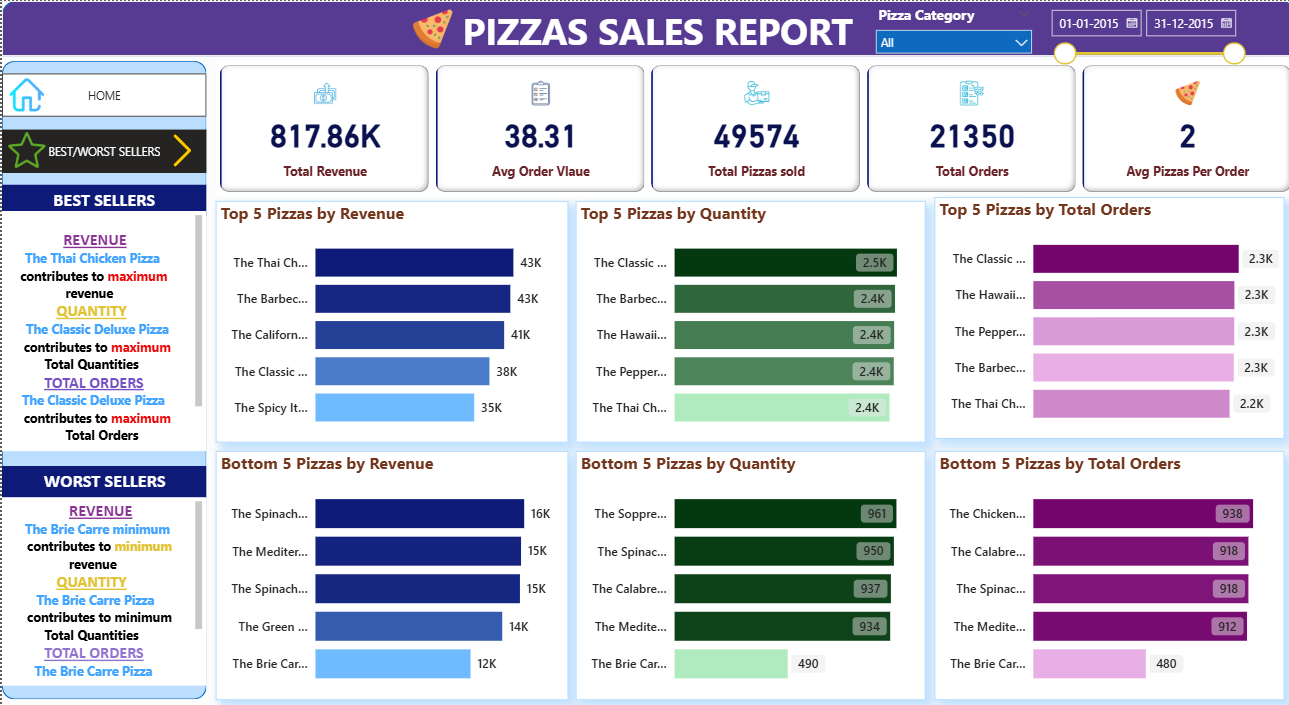

The page's visual inventory and layout, read from the dashboard file:
{"tool":"powerbi","page":{"name":"BEST/WORST SELLERS","canvas":[1500,820],"ordinal":1},"visuals":[{"type":"shape","box":[0,0,1500,64.3],"z":0},{"type":"cardVisual","fields":{"Data":["Sum(pizza_sales.total_price)","pizza_sales.Sum of total_price divided by Count of order_id","Sum(pizza_sales.quantity)","Count(pizza_sales.order_id)","pizza_sales.Sum of quantity divided by Count of order_id"]},"box":[247.1,70,1252.9,157.1],"z":1000},{"type":"textbox","box":[528.3,0,473.6,69.8],"z":2000},{"type":"image","box":[471.7,0,56.6,64.2],"z":3000},{"type":"shape","box":[0,70,237.1,740],"z":4000},{"type":"textbox","box":[0,212.9,237.1,35.7],"z":5000},{"type":"textbox","box":[0,242.9,237.1,278.6],"z":6000},{"type":"textbox","box":[0,538.6,237.1,37.1],"z":7000},{"type":"textbox","box":[0,575.7,237.1,218.6],"z":8000},{"type":"slicer","fields":{"Values":["pizza_sales.pizza_category"]},"box":[1002.9,0,201.4,64.3],"z":9000},{"type":"slicer","fields":{"Values":["pizza_sales.order_date"]},"box":[1204.3,0,245.7,84.3],"z":10000},{"type":"barChart","title":"Top 5 Pizzas by Revenue","fields":{"Category":["pizza_sales.pizza_name"],"Y":["Sum(pizza_sales.total_price)"]},"box":[247.1,231.4,408.6,280],"z":11000},{"type":"barChart","title":"Bottom 5 Pizzas by Revenue","fields":{"Category":["pizza_sales.pizza_name"],"Y":["Sum(pizza_sales.total_price)"]},"box":[247.1,521.4,408.6,288.6],"z":12000},{"type":"barChart","title":"Top 5 Pizzas by Quantity","fields":{"Category":["pizza_sales.pizza_name"],"Y":["Sum(pizza_sales.quantity)"]},"box":[665.7,231.4,405.7,280],"z":13000},{"type":"barChart","title":"Bottom 5 Pizzas by Quantity","fields":{"Category":["pizza_sales.pizza_name"],"Y":["Sum(pizza_sales.quantity)"]},"box":[665.7,521.4,405.7,288.6],"z":14000},{"type":"barChart","title":"Top 5 Pizzas by Total Orders","fields":{"Category":["pizza_sales.pizza_name"],"Y":["Count(pizza_sales.order_id)"]},"box":[1081.4,227.1,405.7,280],"z":15000},{"type":"barChart","title":"Bottom 5 Pizzas by Total Orders","fields":{"Category":["pizza_sales.pizza_name"],"Y":["Count(pizza_sales.order_id)"]},"box":[1081.4,521.4,405.7,288.6],"z":16000},{"type":"pageNavigator","box":[0,148.6,237.1,50],"z":17000},{"type":"pageNavigator","box":[0,84.3,237.1,50],"z":18000},{"type":"image","box":[181.4,150,55.7,48.6],"z":19000},{"type":"image","box":[0,84.3,57.1,50],"z":20000},{"type":"image","box":[0,145.7,57.1,52.9],"z":21000}]}

Visuals, with their boxes in screenshot pixels (x1, y1, x2, y2), scaled from the page's 1500x820 canvas onto the 1289x705 screenshot:
shape: [0, 0, 1288, 55]
cardVisual - Sum(pizza_sales.total_price) x pizza_sales.Sum of total_price divided by Count of order_id: [212, 60, 1288, 195]
textbox: [454, 0, 861, 60]
image: [405, 0, 454, 55]
shape: [0, 60, 204, 696]
textbox: [0, 183, 204, 214]
textbox: [0, 209, 204, 448]
textbox: [0, 463, 204, 495]
textbox: [0, 495, 204, 683]
slicer - pizza_sales.pizza_category: [862, 0, 1035, 55]
slicer - pizza_sales.order_date: [1035, 0, 1246, 72]
"Top 5 Pizzas by Revenue" barChart: [212, 199, 563, 440]
"Bottom 5 Pizzas by Revenue" barChart: [212, 448, 563, 696]
"Top 5 Pizzas by Quantity" barChart: [572, 199, 921, 440]
"Bottom 5 Pizzas by Quantity" barChart: [572, 448, 921, 696]
"Top 5 Pizzas by Total Orders" barChart: [929, 195, 1278, 436]
"Bottom 5 Pizzas by Total Orders" barChart: [929, 448, 1278, 696]
pageNavigator: [0, 128, 204, 171]
pageNavigator: [0, 72, 204, 115]
image: [156, 129, 204, 171]
image: [0, 72, 49, 115]
image: [0, 125, 49, 171]
